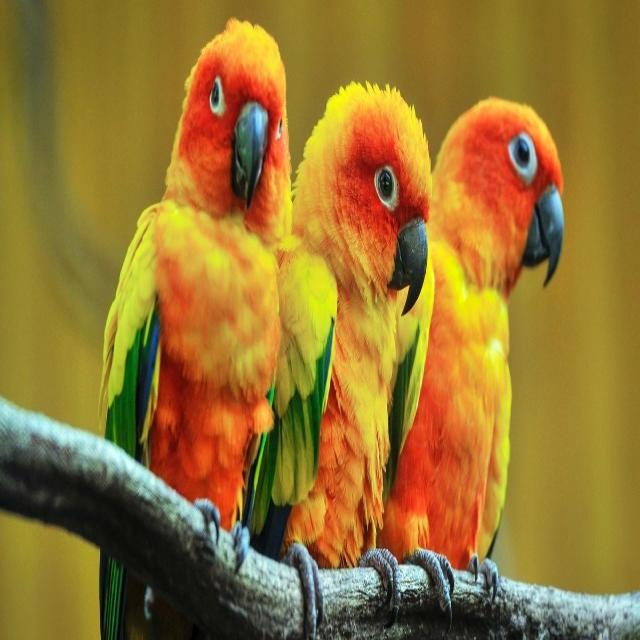parrot: (100, 19, 292, 529), (248, 83, 434, 567), (379, 98, 563, 569)
